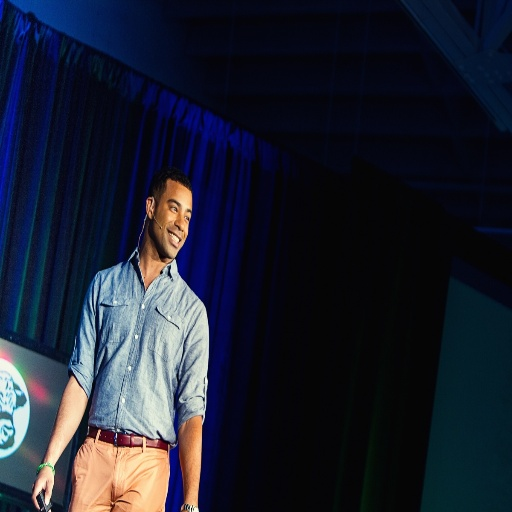hand: (32, 465, 53, 511)
